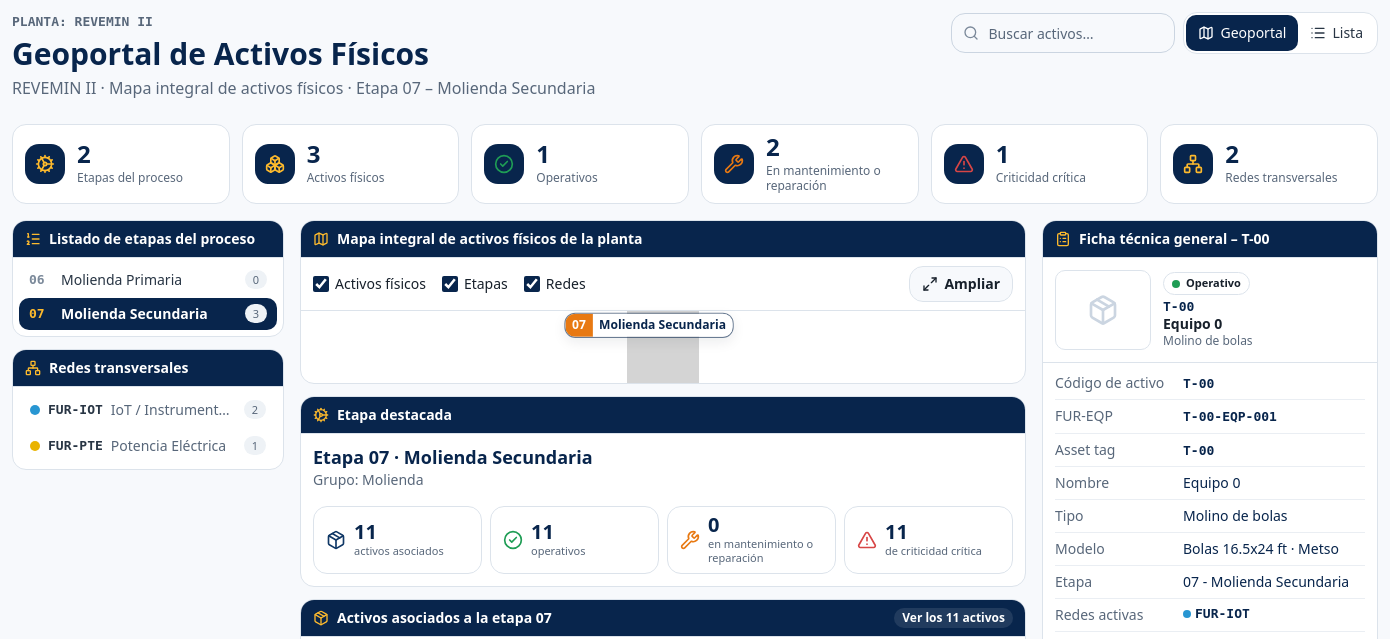
Test case: Geoportal de Activos Físicos › con muchos activos muestra los primeros ocho y «Ver los N activos» abre el resto
Click the button "Ver los 11 activos" at coordinates (954, 618), box [894,608,1013,628]
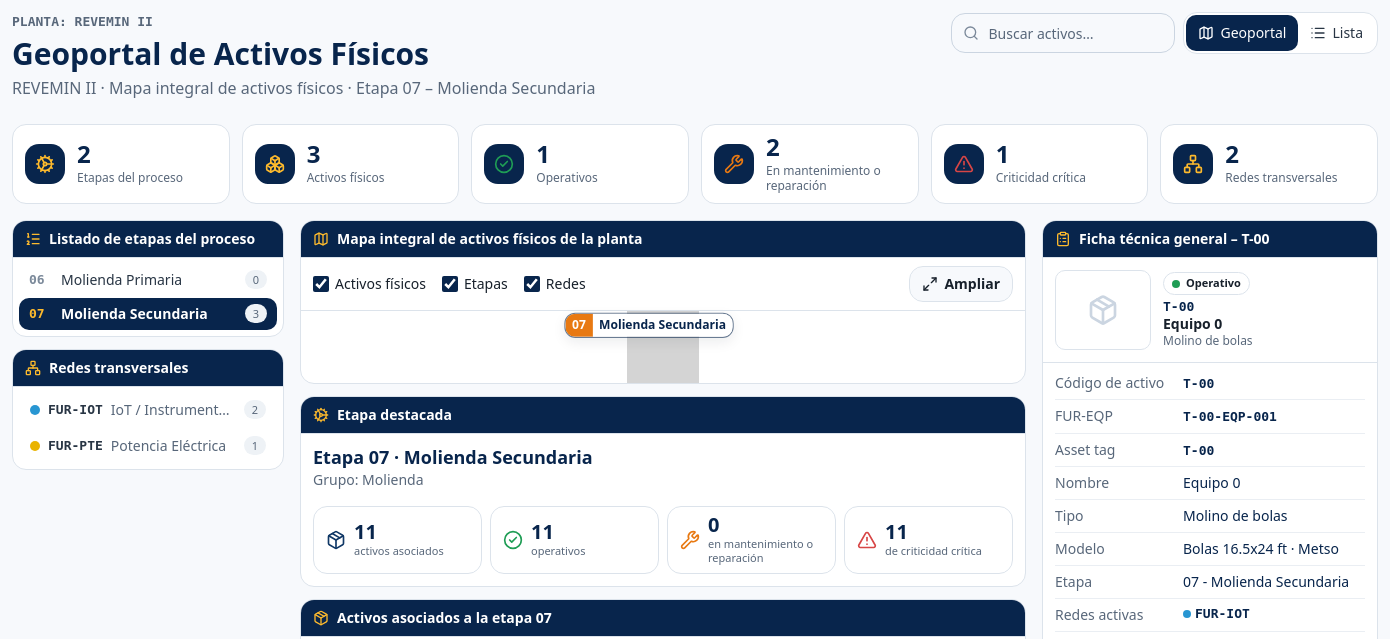
Check: the button "Ver los 11 activos" is gone
